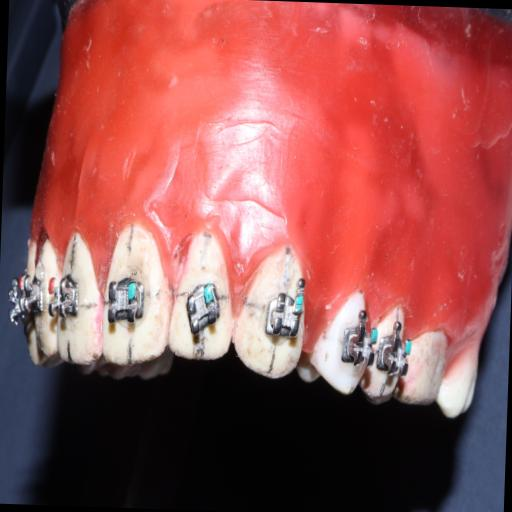correct_brace: (169, 226, 234, 367)
incorrect_brace: (260, 288, 305, 340), (185, 284, 220, 331)
